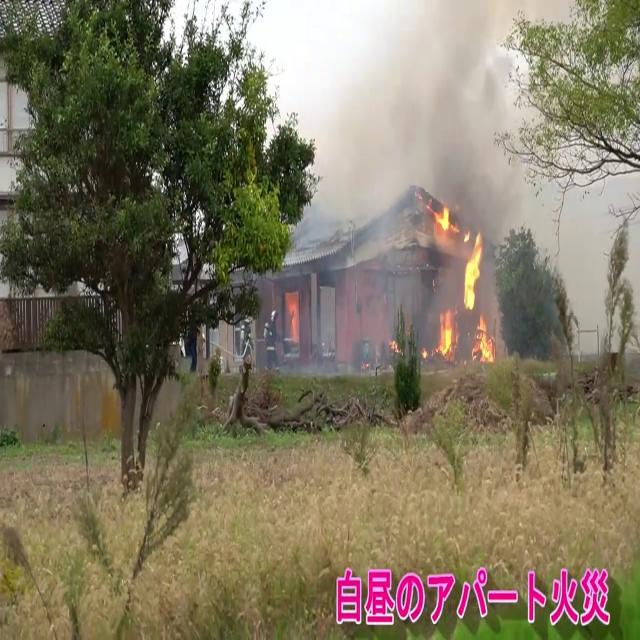Fire: (427, 195, 495, 364)
Smoke: (319, 1, 531, 322)
